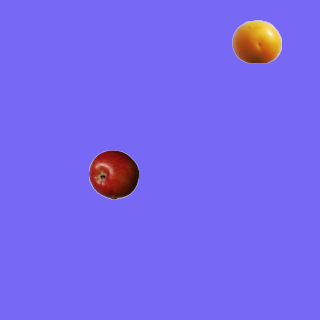Apple Braeburn: (88, 149, 138, 199)
Cherry Wax Yellow: (231, 16, 281, 66)
